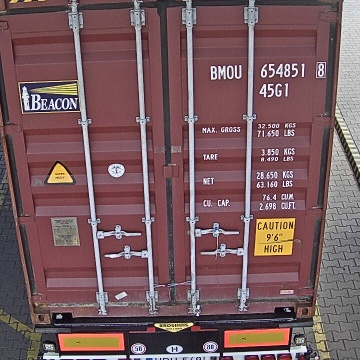serial_id: (211, 62, 325, 79)
